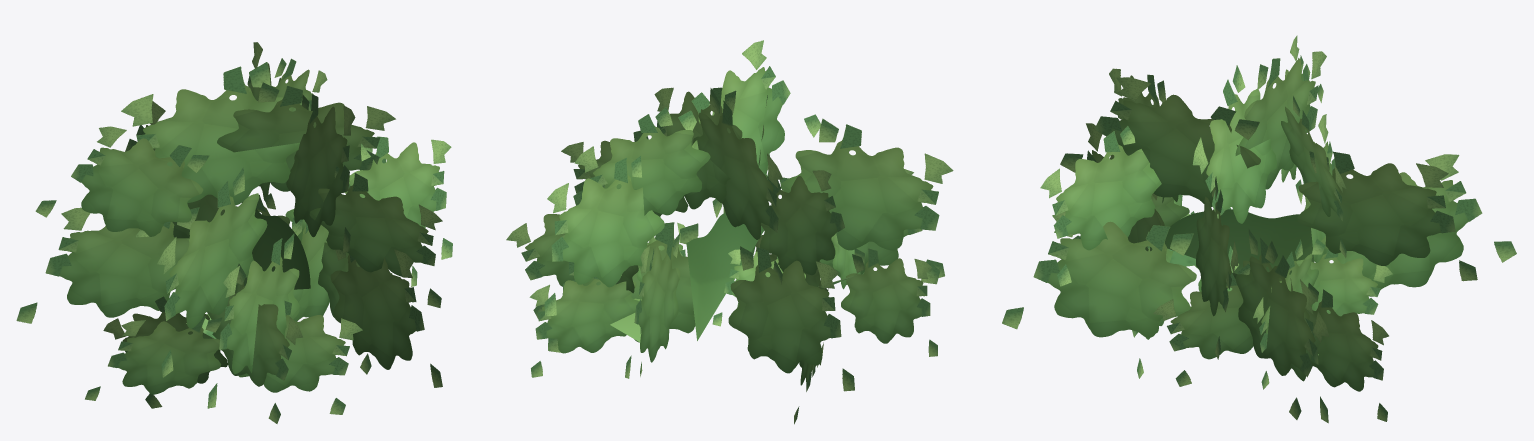
The model's file is oak_canopy_lod1.gltf.
The picture shows the model from 3 angles, left to right: view 1: azimuth 30°, elevation 25°; view 2: azimuth 150°, elevation 25°; view 3: azimuth 270°, elevation 25°; orthographic projection. The views are drawn at different scales.
Visible parts, largest first — view 1: oak_canopy_LOD1; view 2: oak_canopy_LOD1; view 3: oak_canopy_LOD1.
Part boxes in pixels (x1,y1,x2,y2): oak_canopy_LOD1: (16,42,452,423); oak_canopy_LOD1: (506,40,953,424); oak_canopy_LOD1: (1002,35,1516,423).
Size of the model in its own units: 7.71 by 6.29 by 8.49.
1 material, 1 textured.
